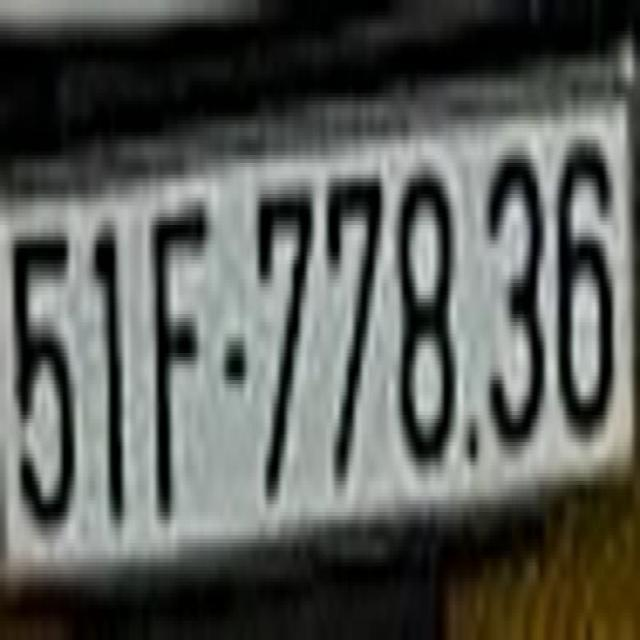1: (85, 190, 137, 547)
3: (485, 116, 546, 492)
5: (12, 186, 76, 555)
6: (554, 90, 611, 470)
7: (321, 136, 383, 512), (254, 151, 313, 512)
8: (395, 120, 455, 516)
F: (146, 170, 210, 528)
